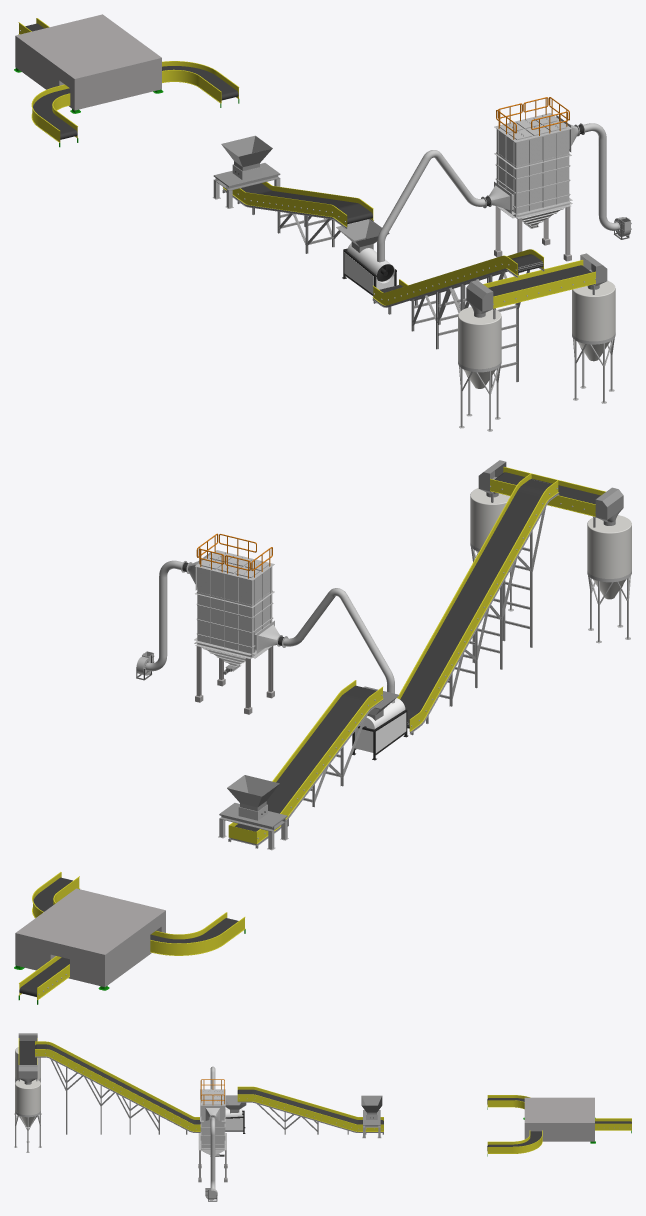
File: Powder_king_2677.glb
3 views of the same model, one above another, from view 1: azimuth 30°, elevation 25°; view 2: azimuth 150°, elevation 25°; view 3: azimuth 270°, elevation 25° (orthographic). The views are drawn at different scales.
Parts seen in each view (by area): view 1: Solid1 (×14), Solid4 (×3), Solid2 (×3), Solid6 (×3), Solid8, Solid34, Solid29; view 2: Solid1 (×10), Solid4 (×3), Solid2 (×2), Solid8, Solid6, Solid34; view 3: Solid1 (×12), Solid4 (×3), Solid2 (×2), Solid6 (×2), Solid34.
Part boxes in pixels (bbox=[...]): Solid1 (×14): bbox=[15, 14, 618, 388]; Solid4 (×3): bbox=[223, 114, 569, 317]; Solid2 (×3): bbox=[162, 66, 544, 305]; Solid6 (×3): bbox=[411, 273, 615, 431]; Solid8: bbox=[494, 206, 571, 261]; Solid34: bbox=[499, 114, 566, 140]; Solid29: bbox=[494, 113, 571, 169]; Solid1 (×10): bbox=[15, 467, 631, 986]; Solid4 (×3): bbox=[197, 487, 623, 843]; Solid2 (×2): bbox=[283, 473, 558, 731]; Solid8: bbox=[195, 646, 273, 714]; Solid6: bbox=[449, 531, 532, 706]; Solid34: bbox=[201, 551, 269, 577]; Solid1 (×12): bbox=[15, 1041, 631, 1188]; Solid4 (×3): bbox=[35, 1056, 383, 1148]; Solid2 (×2): bbox=[35, 1041, 541, 1150]; Solid6 (×2): bbox=[14, 1067, 159, 1152]; Solid34: bbox=[202, 1089, 223, 1104].
Bounding box in the file's own units: 19.53 × 8.23 × 52.64.
Materials: 13 (2 with a texture image).
